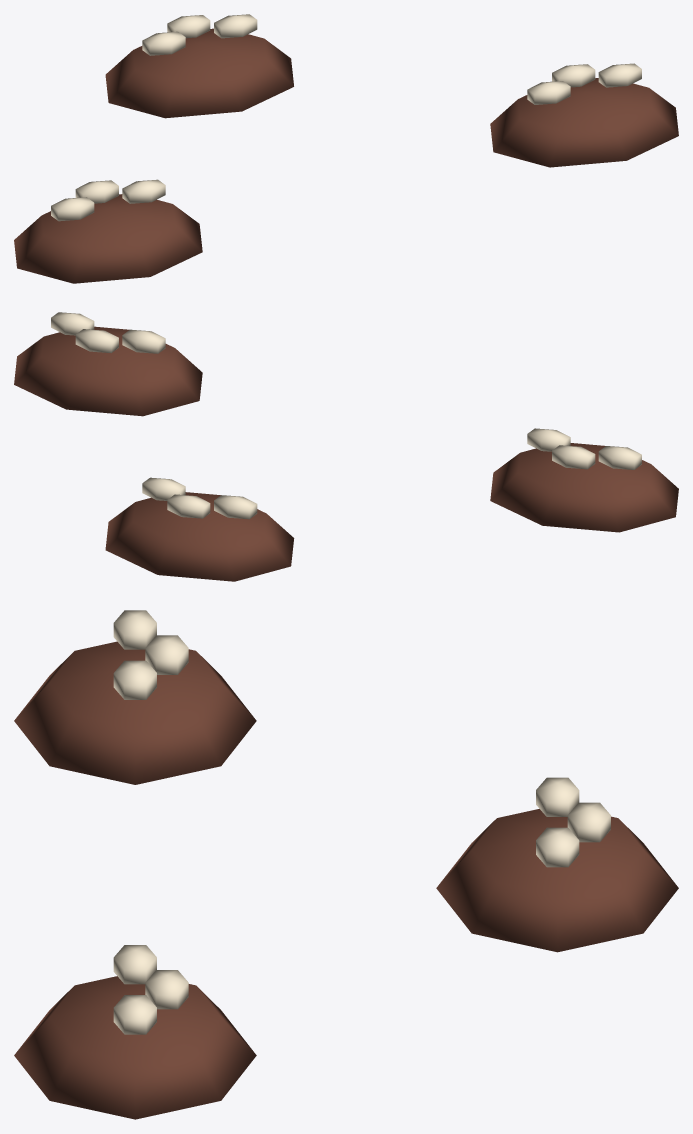
Rendered from stage_0_seed.glb.
3 views of the same model, one above another, from view 1: azimuth 30°, elevation 25°; view 2: azimuth 150°, elevation 25°; view 3: azimuth 270°, elevation 25° (orthographic). The views are drawn at different scales.
Parts seen in each view (by area): view 1: 土丘.001, 土丘.002, 土丘, 种子.005, 种子.006, 种子.002, 种子.008, 种子, 种子.003, 种子.004, 种子.001, 种子.007; view 2: 土丘.002, 土丘.001, 土丘, 种子.003, 种子, 种子.001, 种子.007, 种子.004, 种子.006, 种子.008, 种子.002, 种子.005; view 3: 土丘.001, 土丘, 土丘.002, 种子.008, 种子.005, 种子.002, 种子.007, 种子, 种子.001, 种子.003, 种子.006, 种子.004.
Part boxes in pixels (x1,y1,x2,y2): 土丘.001: (490,78,678,167); 土丘.002: (105,28,293,118); 土丘: (14,194,202,283); 种子.005: (598,63,641,87); 种子.006: (142,31,185,55); 种子.002: (122,179,165,203); 种子.008: (214,14,257,38); 种子: (51,197,94,221); 种子.003: (527,81,570,104); 种子.004: (552,64,595,87); 种子.001: (75,180,118,203); 种子.007: (167,15,210,38); 土丘.002: (105,492,294,581); 土丘.001: (14,326,202,416); 土丘: (490,443,678,532); 种子.003: (122,329,165,353); 种子: (598,446,641,469); 种子.001: (552,445,595,469); 种子.007: (167,494,210,518); 种子.004: (75,329,118,353); 种子.006: (214,495,257,519); 种子.008: (142,477,185,500); 种子.002: (527,428,570,451); 种子.005: (51,312,94,335); 土丘.001: (14,976,256,1119); 土丘: (14,641,256,784); 土丘.002: (436,809,678,952); 种子.008: (536,827,579,867); 种子.005: (113,995,156,1034); 种子.002: (113,660,156,699); 种子.007: (567,802,610,842); 种子: (113,610,156,649); 种子.001: (145,635,188,674); 种子.003: (113,945,156,984); 种子.006: (536,777,579,816); 种子.004: (145,970,188,1009).
Bounding box in the file's own units: 0.83 × 0.067 × 0.504.
1 material, 1 textured.
